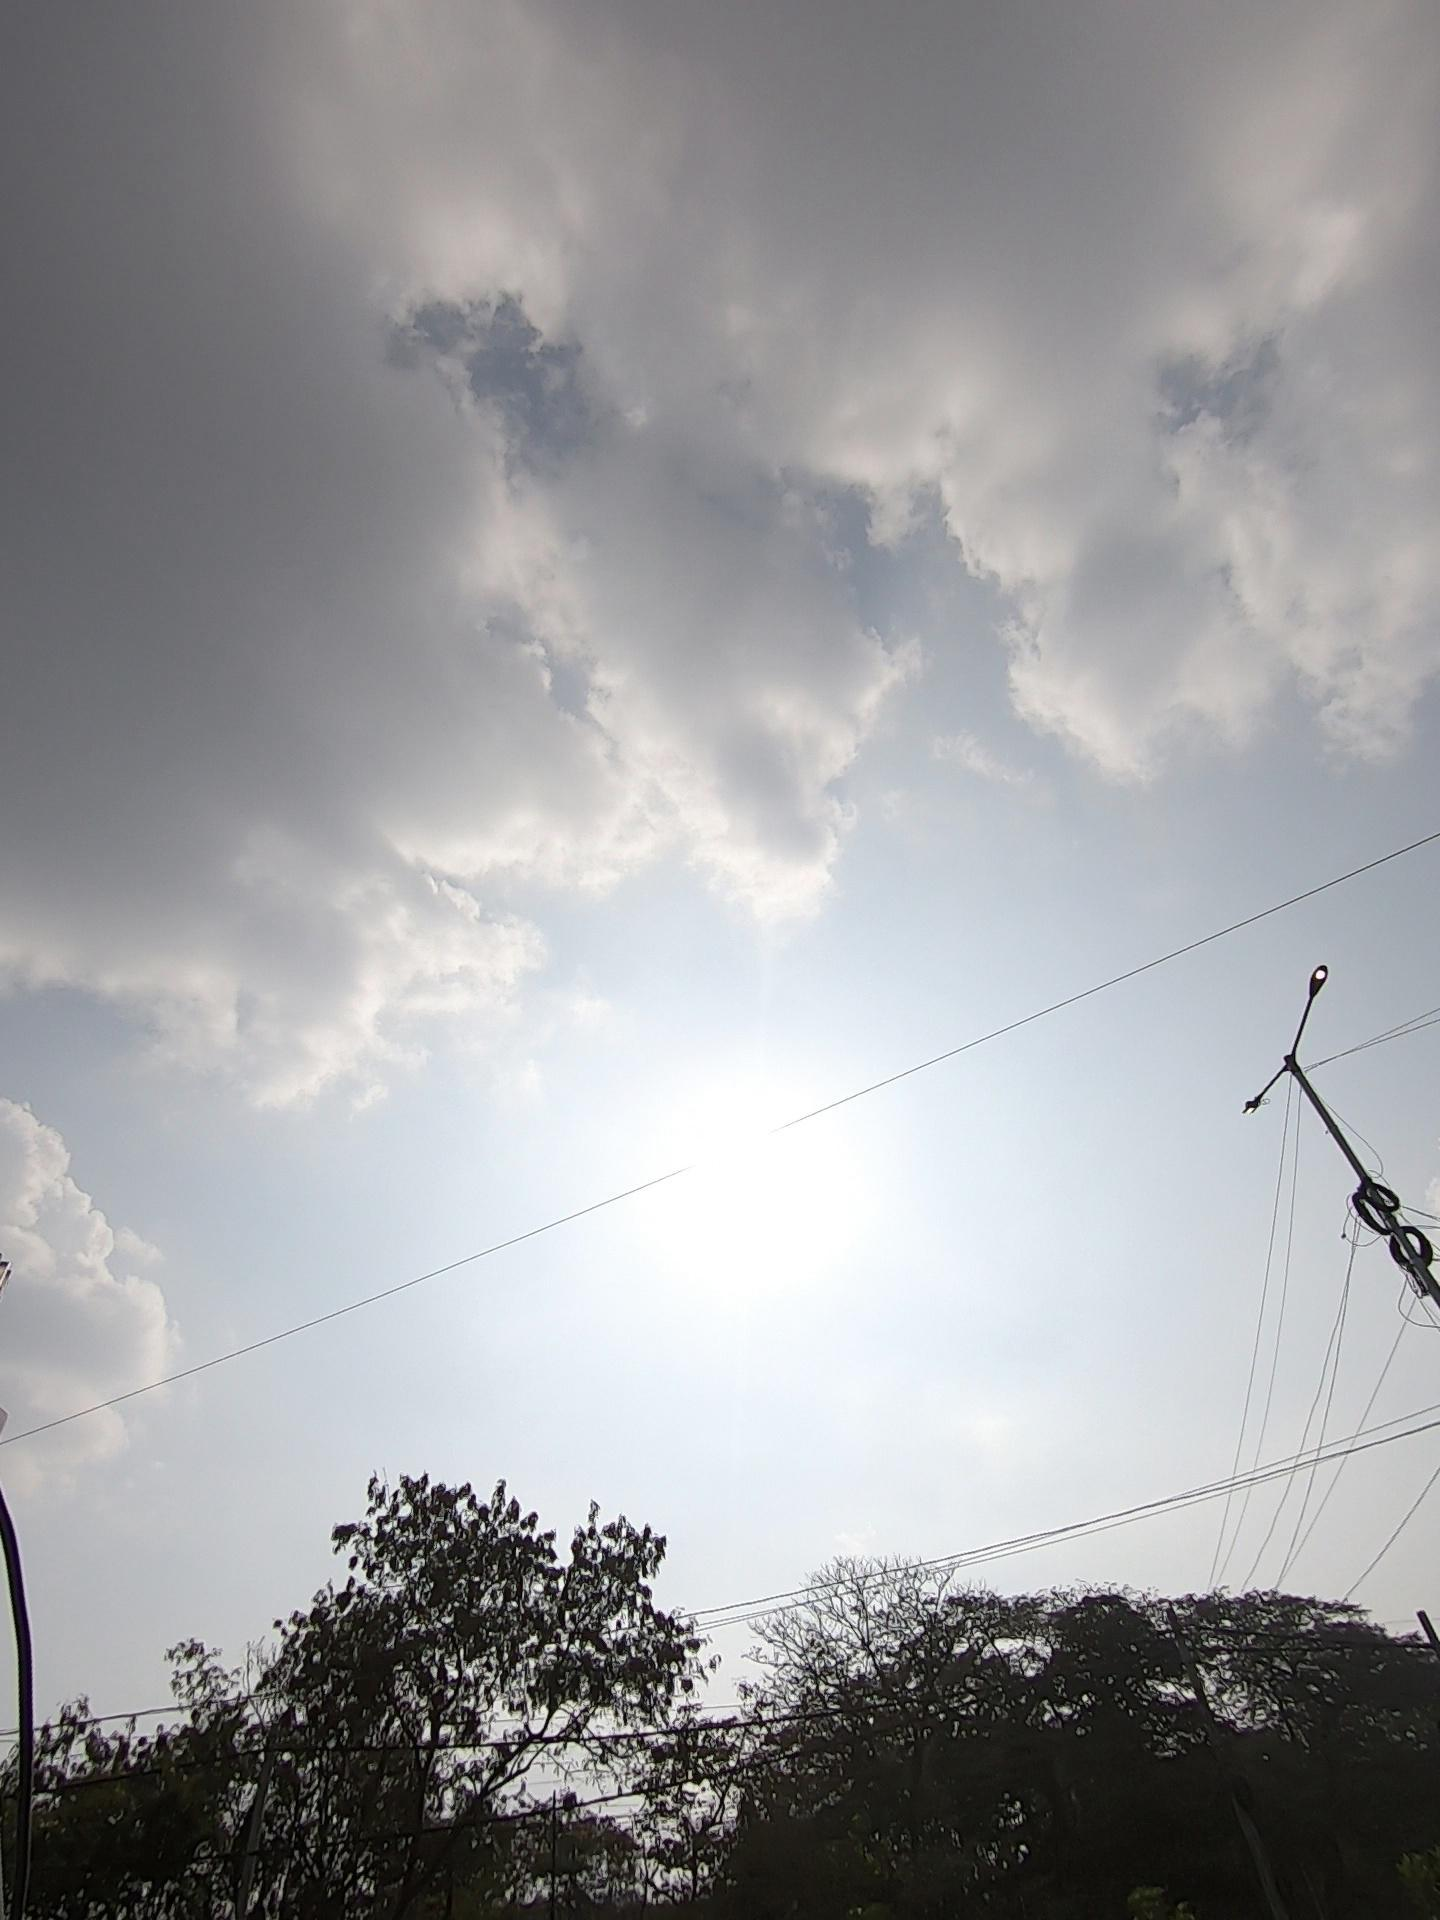off: (1119, 931, 1428, 1164)
